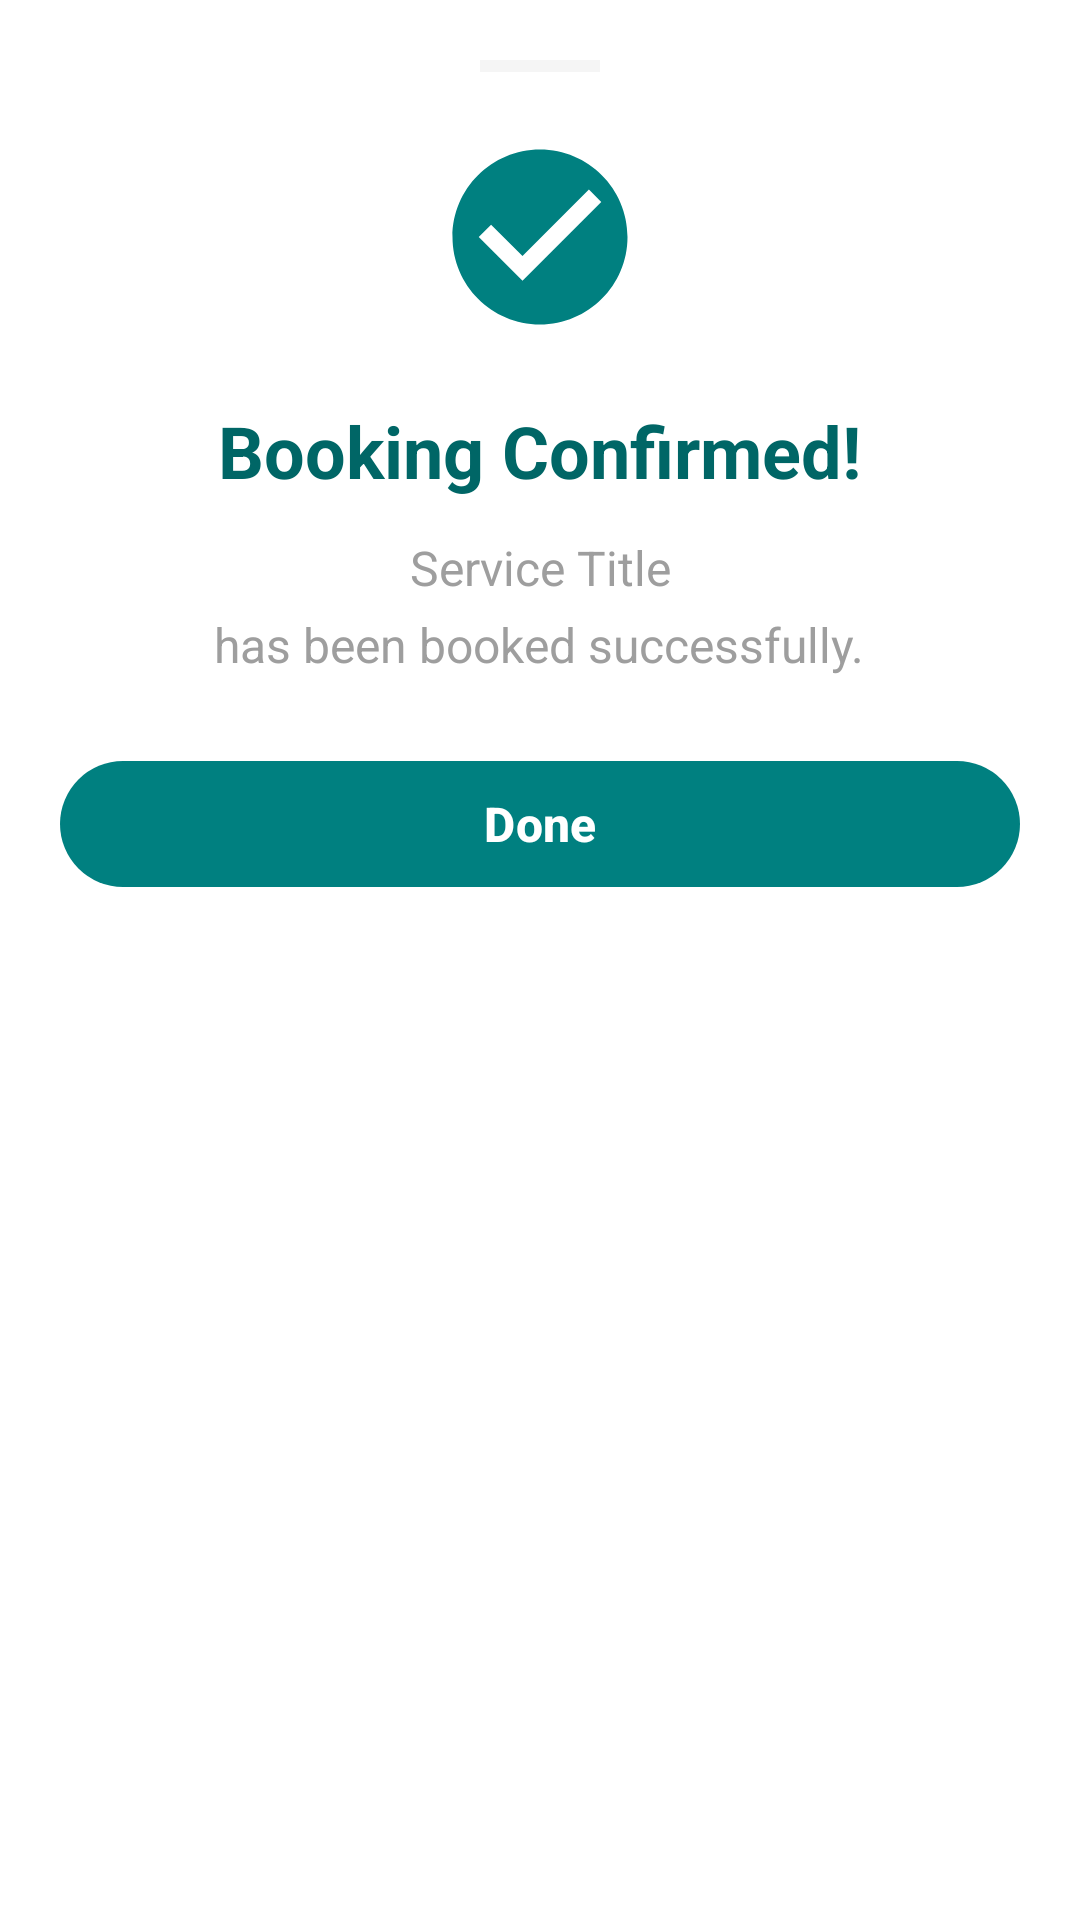

Screen size 1080 × 1920. Icon name, then its box in pixels as region(x1, y1, x2, y2):
check circle: region(452, 149, 628, 325)
